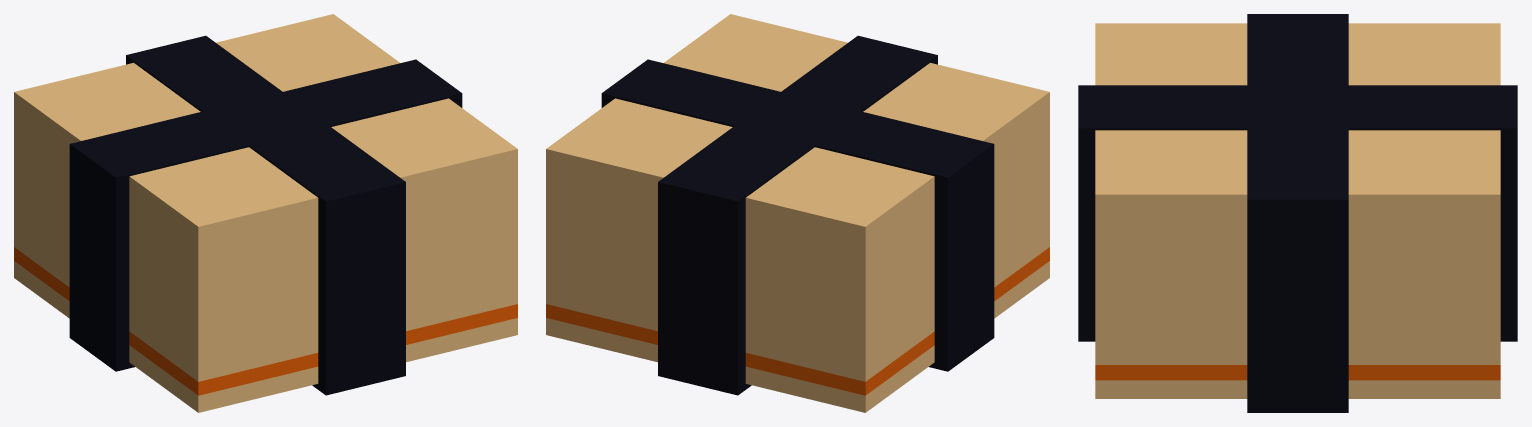
The picture shows the model from 3 angles, left to right: view 1: azimuth 30°, elevation 25°; view 2: azimuth 150°, elevation 25°; view 3: azimuth 270°, elevation 25°; orthographic projection. The views are drawn at different scales.
Parts seen in each view (by area): view 1: 立方体.297; view 2: 立方体.297; view 3: 立方体.297.
Boxes of the visible parts, x1,y1,x2,y2 form: 立方体.297: [14, 14, 517, 412]; 立方体.297: [546, 14, 1049, 412]; 立方体.297: [1078, 14, 1517, 412].
Size of the model in its own units: 865 by 865 by 463.
